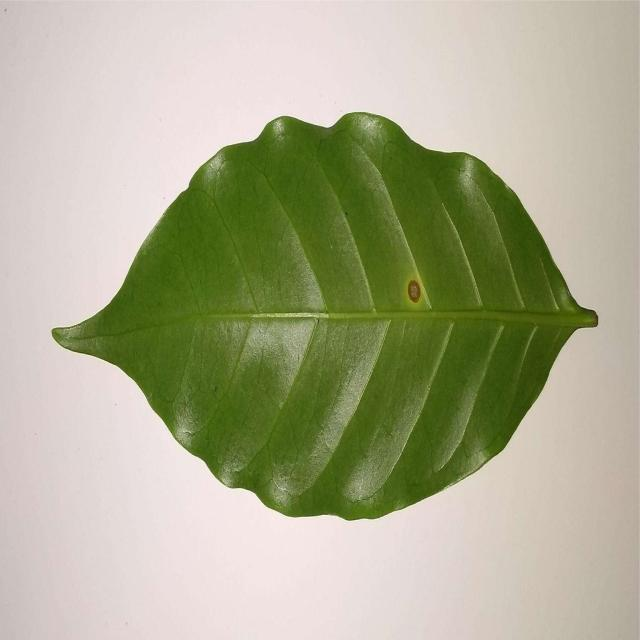Enfermedad-Mancha-de-hierro: (50, 112, 599, 523)
